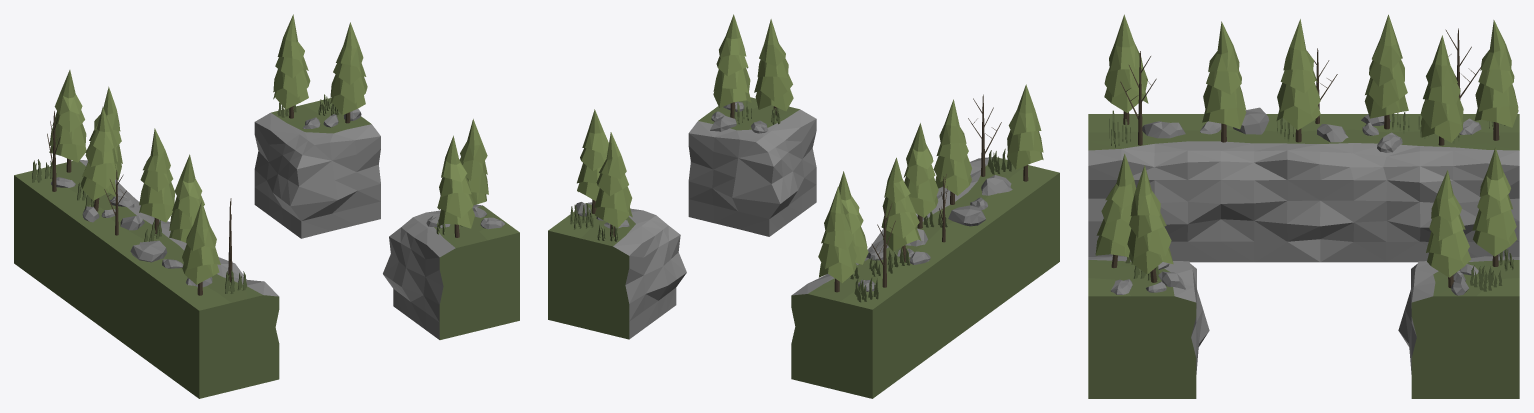
Rendered from T_Intersection_Final.dae.
3 renders of one model, left to right at view 1: azimuth 30°, elevation 25°; view 2: azimuth 150°, elevation 25°; view 3: azimuth 270°, elevation 25°, orthographic. The views are drawn at different scales.
Visible parts, largest first — view 1: T_Intersection; view 2: T_Intersection; view 3: T_Intersection.
Part boxes in pixels (x1,y1,x2,y2): T_Intersection: [14, 14, 519, 398]; T_Intersection: [548, 14, 1059, 398]; T_Intersection: [1088, 14, 1519, 398].
Size of the model in its own units: 2 by 2 by 1.15.
